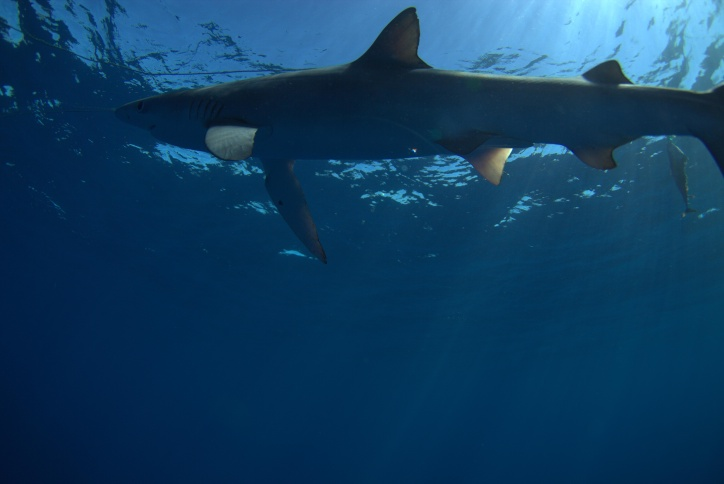Azul: (86, 1, 724, 316)
